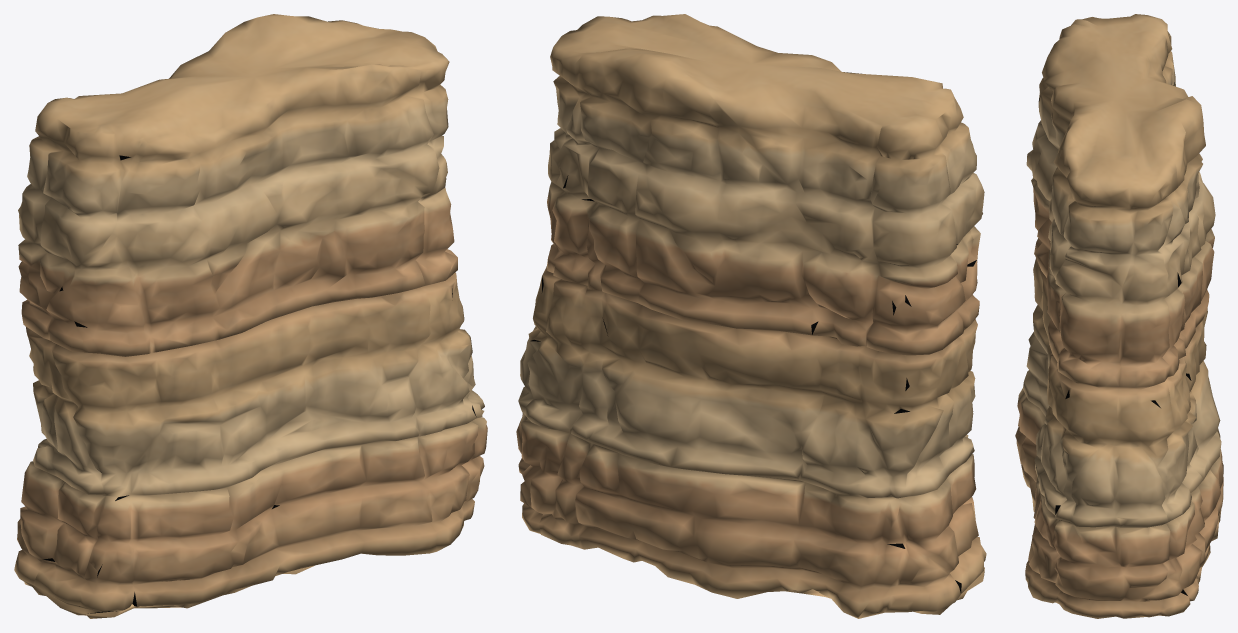
The model's file is cliff_strata.glb.
3 views of the same model, side by side, from view 1: azimuth 30°, elevation 25°; view 2: azimuth 150°, elevation 25°; view 3: azimuth 270°, elevation 25° (orthographic). The views are drawn at different scales.
Parts seen in each view (by area): view 1: cliff_strata_game; view 2: cliff_strata_game; view 3: cliff_strata_game.
Part boxes in pixels (left/top/right/bottom): cliff_strata_game: left=14, top=14, right=487, bottom=618; cliff_strata_game: left=516, top=14, right=986, bottom=618; cliff_strata_game: left=1015, top=14, right=1223, bottom=618.
Bounding box in the file's own units: 24.78 × 27.62 × 11.39.
1 material, 1 textured.
